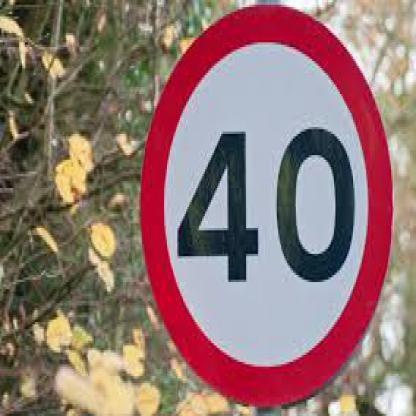Speed Limit 40: (147, 6, 392, 403)
